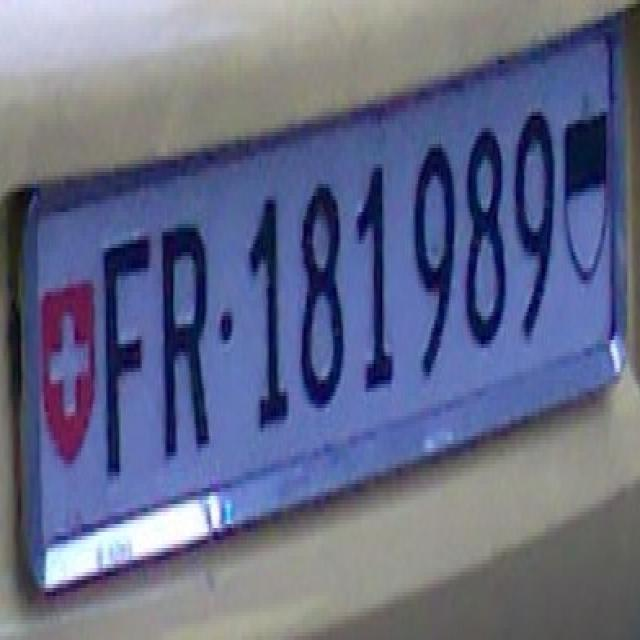licenseplate: (3, 2, 635, 582)
